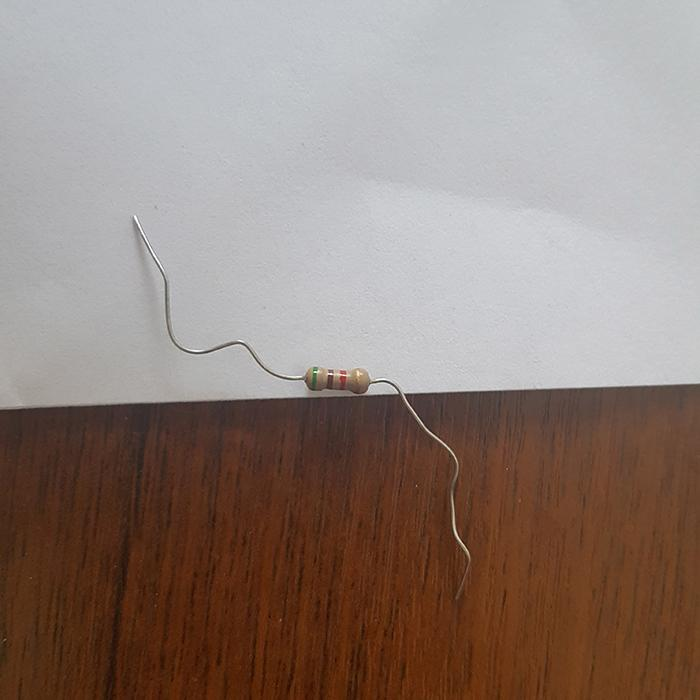resistor: (304, 364, 370, 393)
